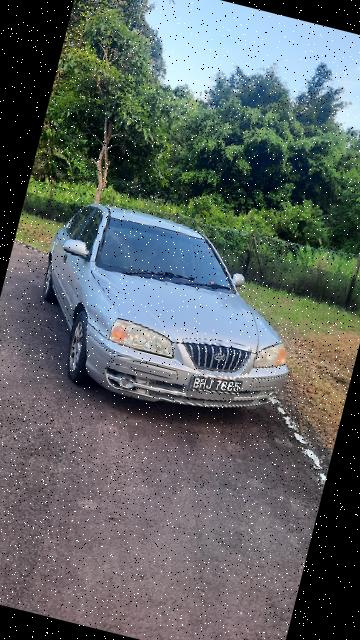License_Plate: (187, 370, 244, 401)
car: (17, 191, 330, 443)
